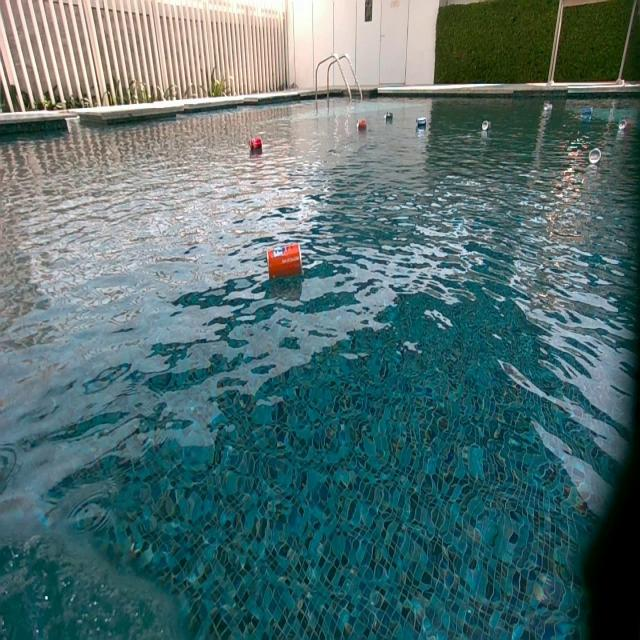Cans: (269, 244, 302, 282), (248, 137, 263, 154), (589, 147, 602, 164), (619, 118, 632, 130), (416, 116, 428, 128), (582, 107, 594, 119), (357, 118, 367, 130), (384, 110, 394, 122), (482, 119, 492, 130), (543, 102, 553, 112)
